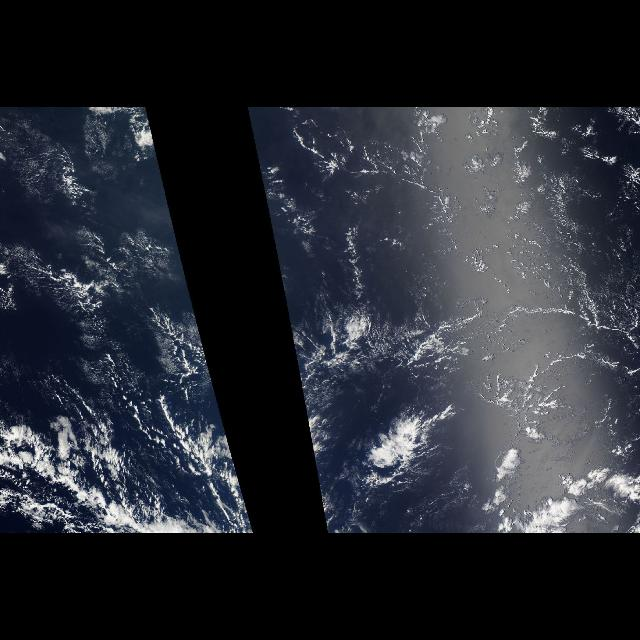Gravel: (298, 126, 636, 420), (3, 404, 246, 526)
Sugar: (340, 138, 638, 338)
